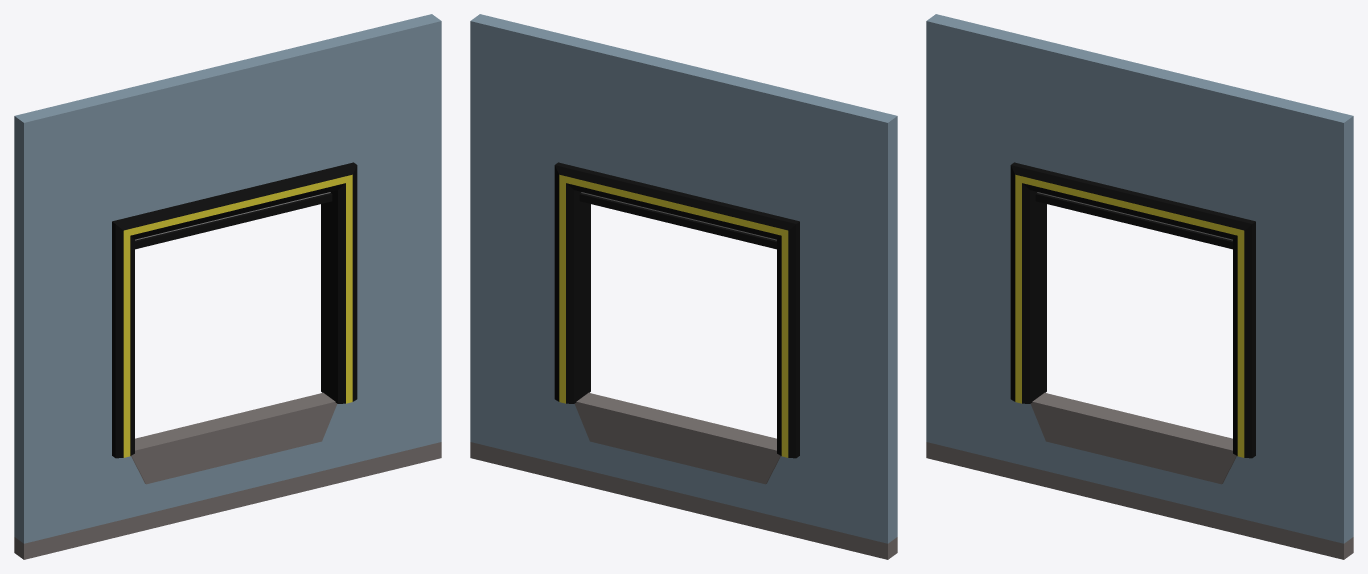
File: wallLoadingBayDoorOpen.fbx
3 renders of one model, left to right at view 1: azimuth 30°, elevation 25°; view 2: azimuth 150°, elevation 25°; view 3: azimuth 330°, elevation 25°, orthographic.
Parts seen in each view (by area): view 1: Wall - Loading BayDoorOpen; view 2: Wall - Loading BayDoorOpen; view 3: Wall - Loading BayDoorOpen.
Part boxes in pixels (box(x1,y1,x2,y2)): Wall - Loading BayDoorOpen: box(14, 14, 441, 559); Wall - Loading BayDoorOpen: box(470, 14, 897, 559); Wall - Loading BayDoorOpen: box(926, 14, 1353, 559).
Size of the model in its own units: 400 by 33.75 by 400.
